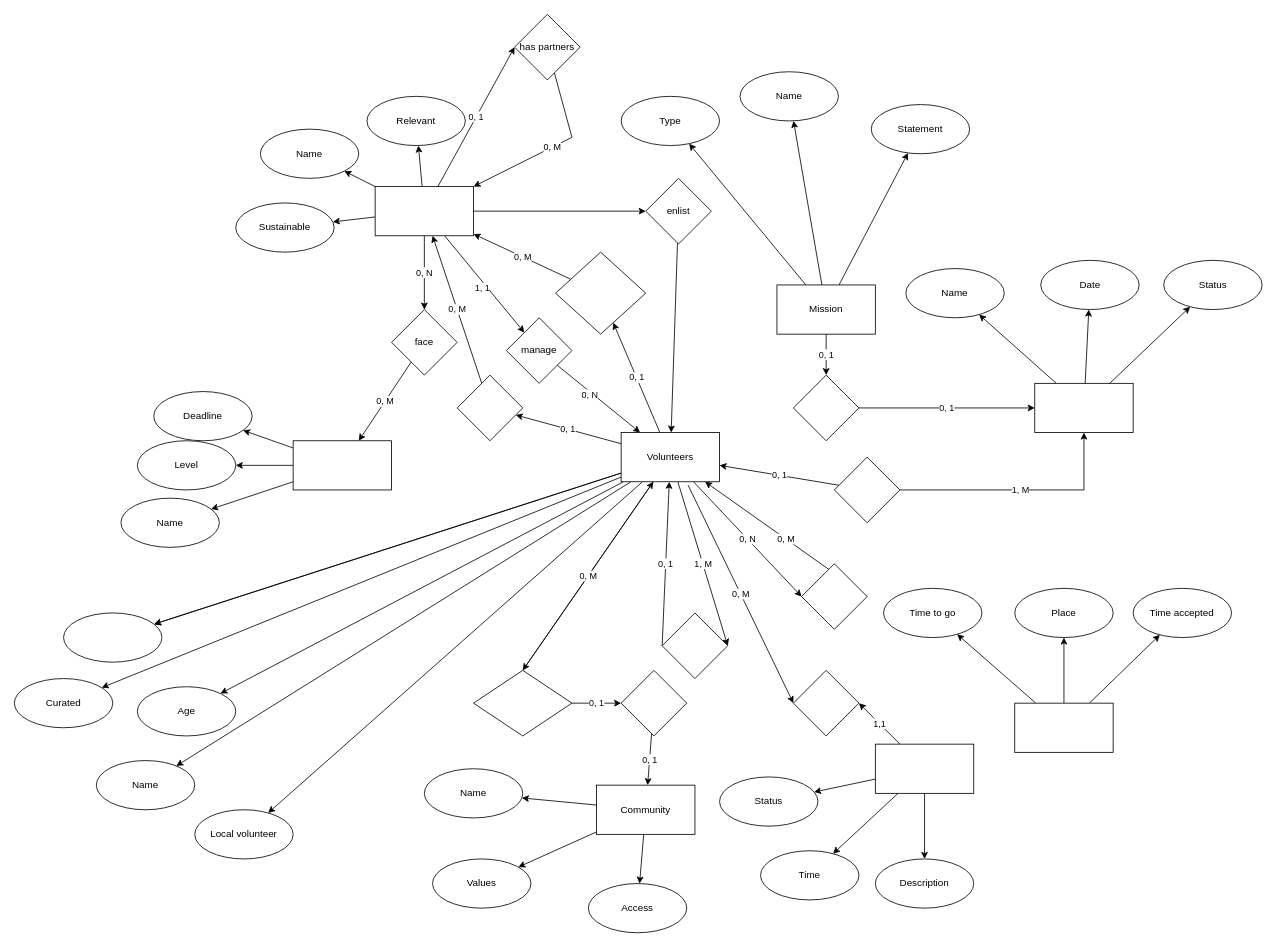
Image size: 1277x947. Some labels were removed from this diagram. The shapes that lost their labels are listed below. From the top down, each one's centre as x and y in pixels, then its label:
the point at 424,211: Nonprofits
the point at 600,292: engaged to social impact
the point at 489,407: match
the point at 826,407: unlock
the point at 1083,408: Purpose
the point at 342,465: Challenge
the point at 867,489: engage
the point at 834,596: spend
the point at 112,637: Sex
the point at 694,645: share
the point at 522,703: have similar ambitious or interest
the point at 653,703: impact
the point at 826,703: delivered
the point at 1063,727: Attendance
the point at 924,768: Reminders
